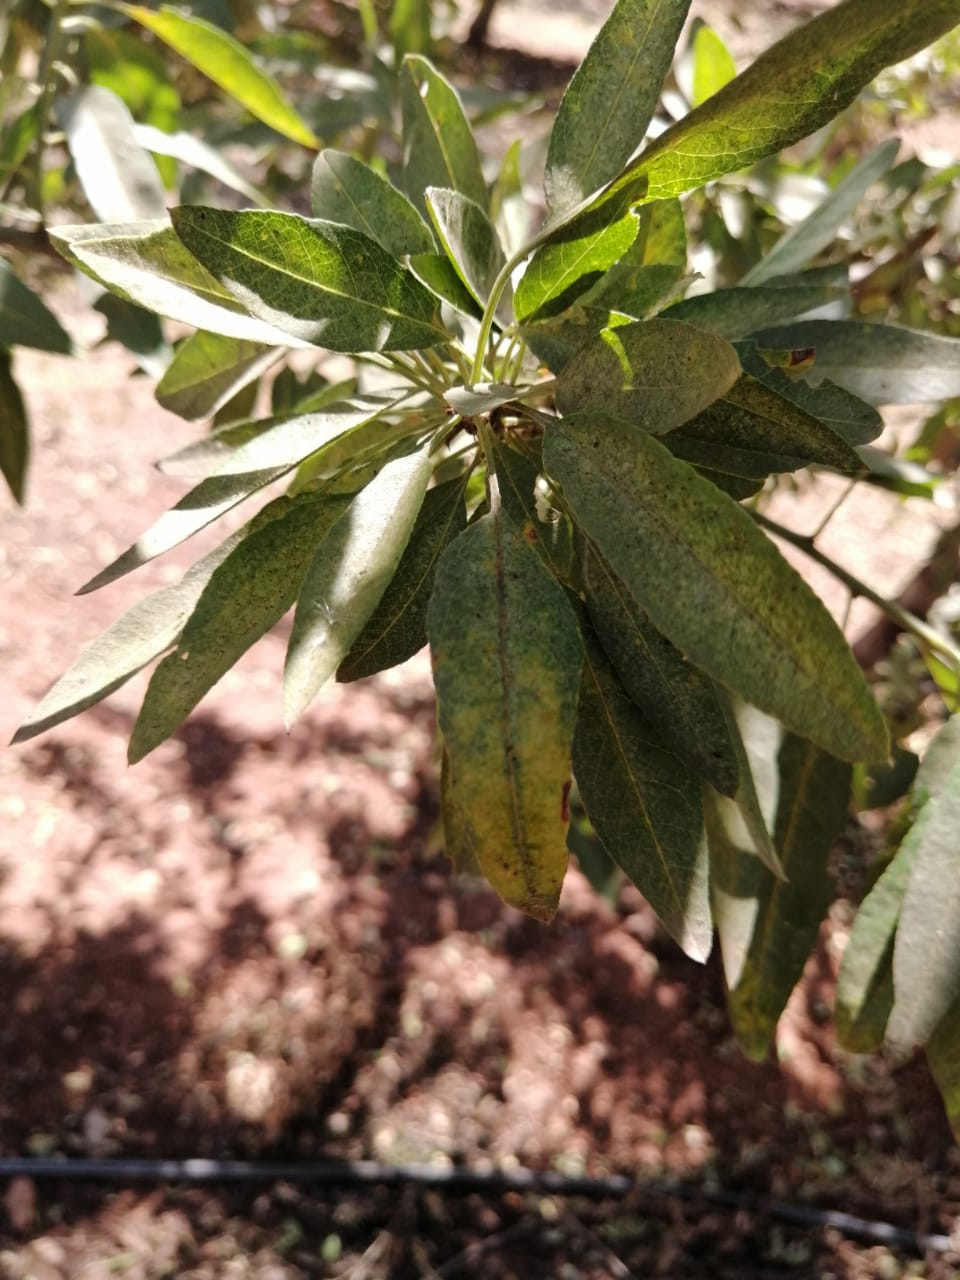acariens: (545, 411, 892, 775), (425, 507, 584, 929), (122, 495, 352, 769), (542, 1, 692, 218), (557, 319, 745, 437)
